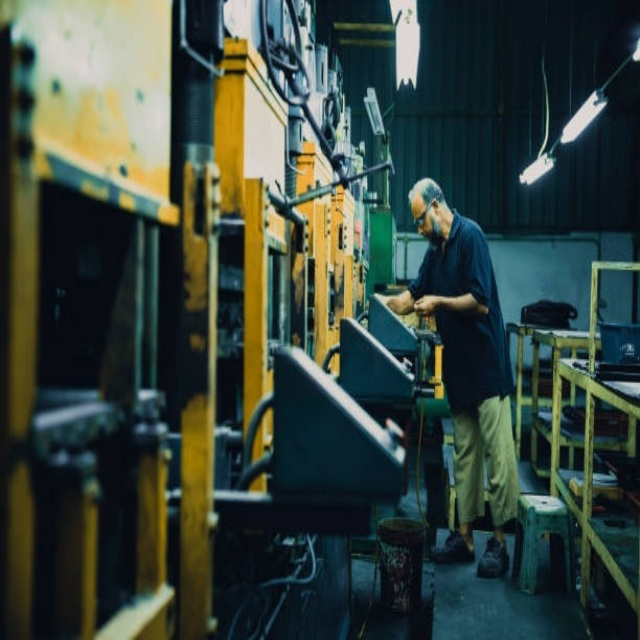Gafas: (414, 200, 435, 229)
Sin_guantes: (413, 292, 439, 317)
